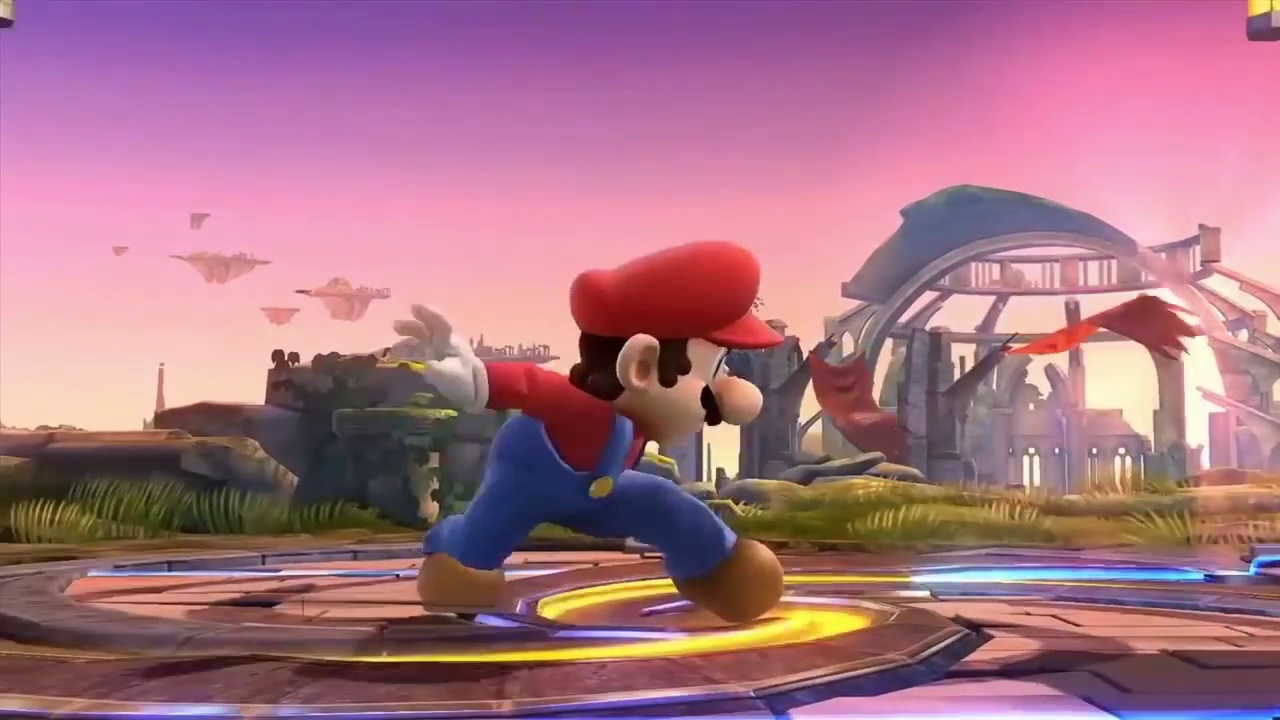Mario: (391, 240, 787, 621)
